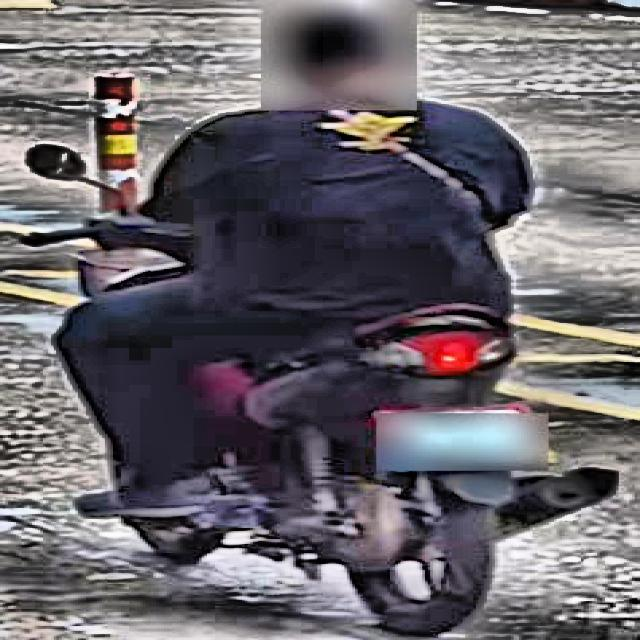motorcycle: (18, 127, 620, 624)
